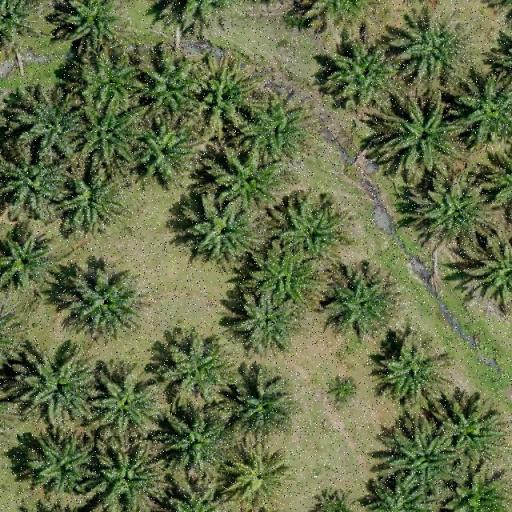Ganoderma: (235, 451, 288, 496)
